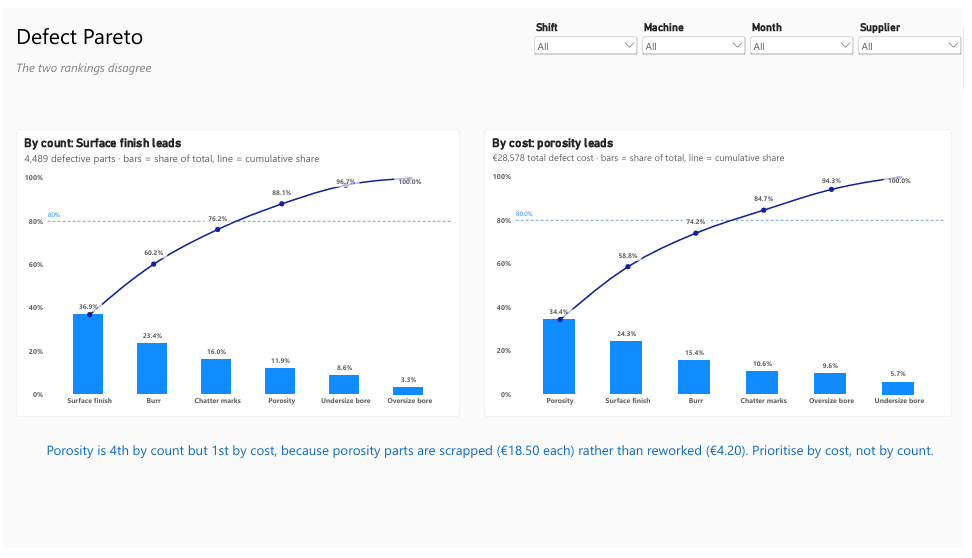

What the dashboard file says about the page in this screenshot:
{"tool":"powerbi","page":{"name":"Pareto","canvas":[1920,1080],"ordinal":1},"visuals":[{"type":"lineClusteredColumnComboChart","title":"By count: Surface finish leads","fields":{"Category":["defects.defect_type"],"Y":["Measures (3).Defect share %"],"Y2":["Measures (3).Defect cumulative %"]},"box":[24,240,888,576],"z":0},{"type":"lineClusteredColumnComboChart","title":"By cost: porosity leads","fields":{"Category":["defects.defect_type"],"Y":["Measures (3).Cost share %"],"Y2":["Measures (3).Cost cumulative %"]},"box":[960,240,936,576],"z":1000},{"type":"textbox","box":[48,864,1848,144],"z":2000},{"type":"slicer","fields":{"Values":["Calendar.Month"]},"box":[1488,24,216,144],"z":3000},{"type":"slicer","fields":{"Values":["Shifts.shift"]},"box":[1056,24,216,144],"z":4000},{"type":"slicer","fields":{"Values":["machines.machine_id"]},"box":[1272,24,216,144],"z":5000},{"type":"slicer","fields":{"Values":["suppliers.supplier_name"]},"box":[1704,24,216,144],"z":6000},{"type":"textbox","box":[24,24,840,144],"z":7000}]}

Visuals, with their boxes in screenshot pixels (x1, y1, x2, y2), scaled from the page's 1920x1080 canvas onto the 972x558 screenshot:
"By count: Surface finish leads" lineClusteredColumnComboChart: (12,124,462,422)
"By cost: porosity leads" lineClusteredColumnComboChart: (486,124,960,422)
textbox: (24,446,960,521)
slicer - Calendar.Month: (753,12,863,87)
slicer - Shifts.shift: (535,12,644,87)
slicer - machines.machine_id: (644,12,753,87)
slicer - suppliers.supplier_name: (863,12,971,87)
textbox: (12,12,437,87)
